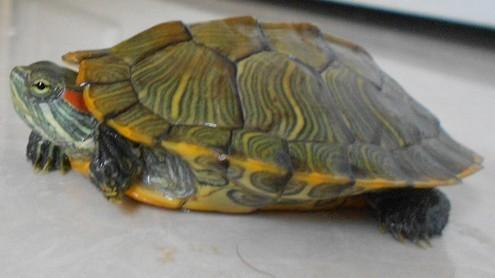tortoise: (9, 12, 487, 249)
